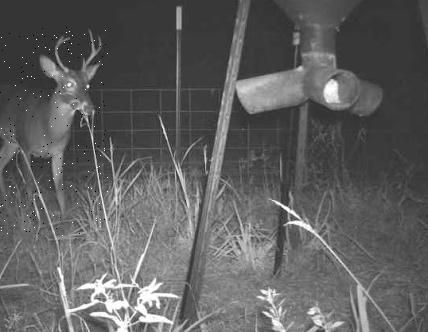Deer: (0, 25, 110, 236)
